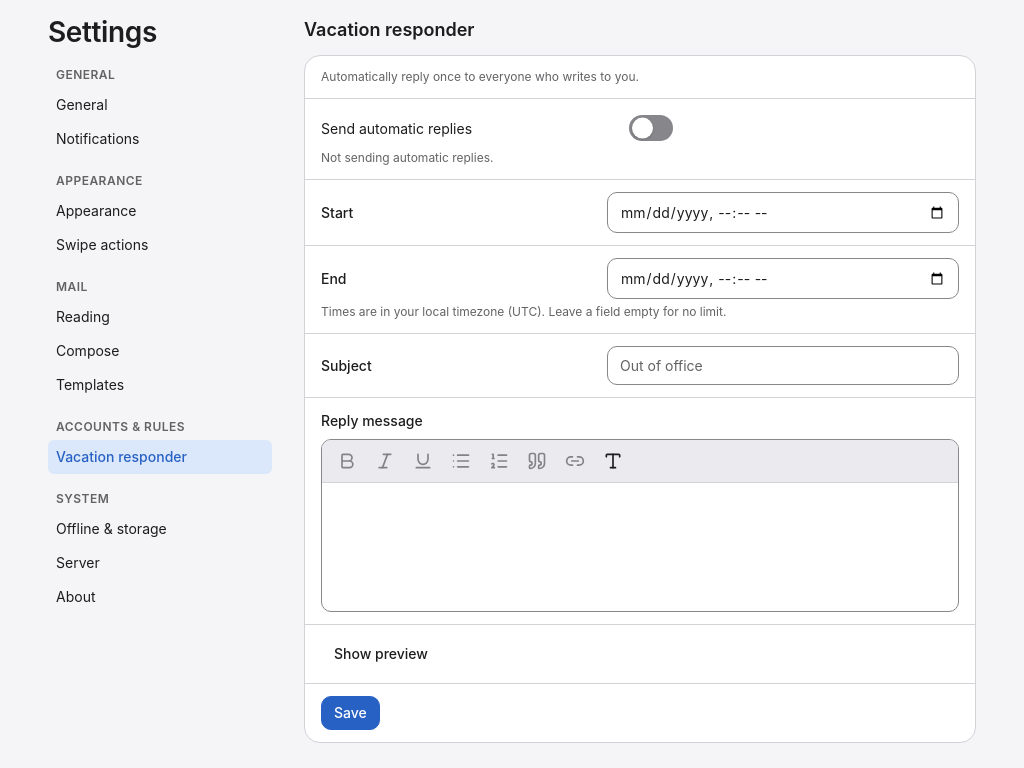
it: leaving a settings section with unsaved input › keeps the draft when the reader says so
What coordinates should you click on to do the following:
click the link "Vacation responder"
I would click on:
 (160, 457)
Its box is [48,440,272,474].
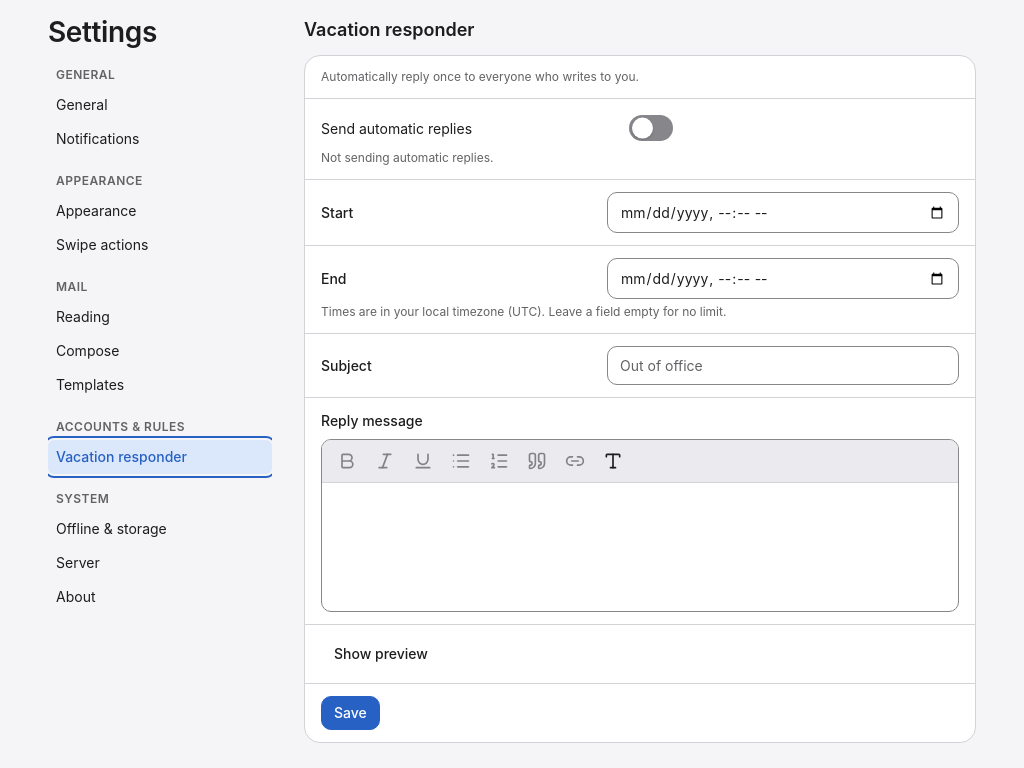
What coordinates should you click on to do the following:
click the switch named "Send automatic replies"
I would click on:
 (651, 128)
Its box is [629,111,673,145].
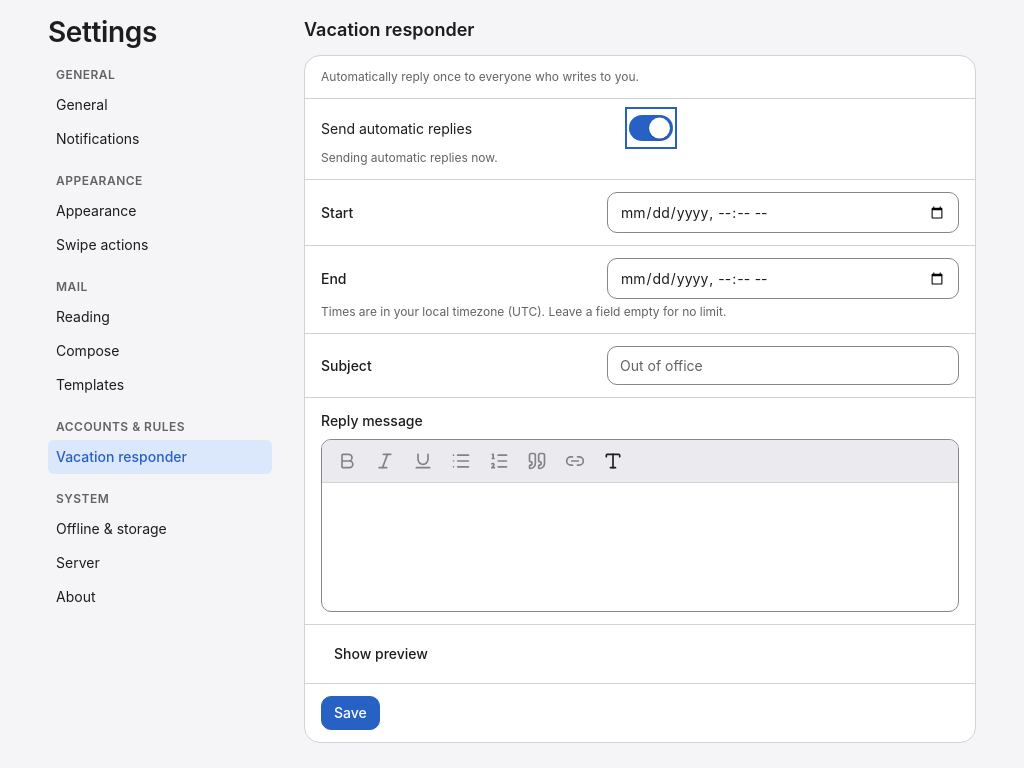
What coordinates should you click on to do the following:
click the link "General"
I would click on:
 (82, 105)
Its box is [56,96,108,113].
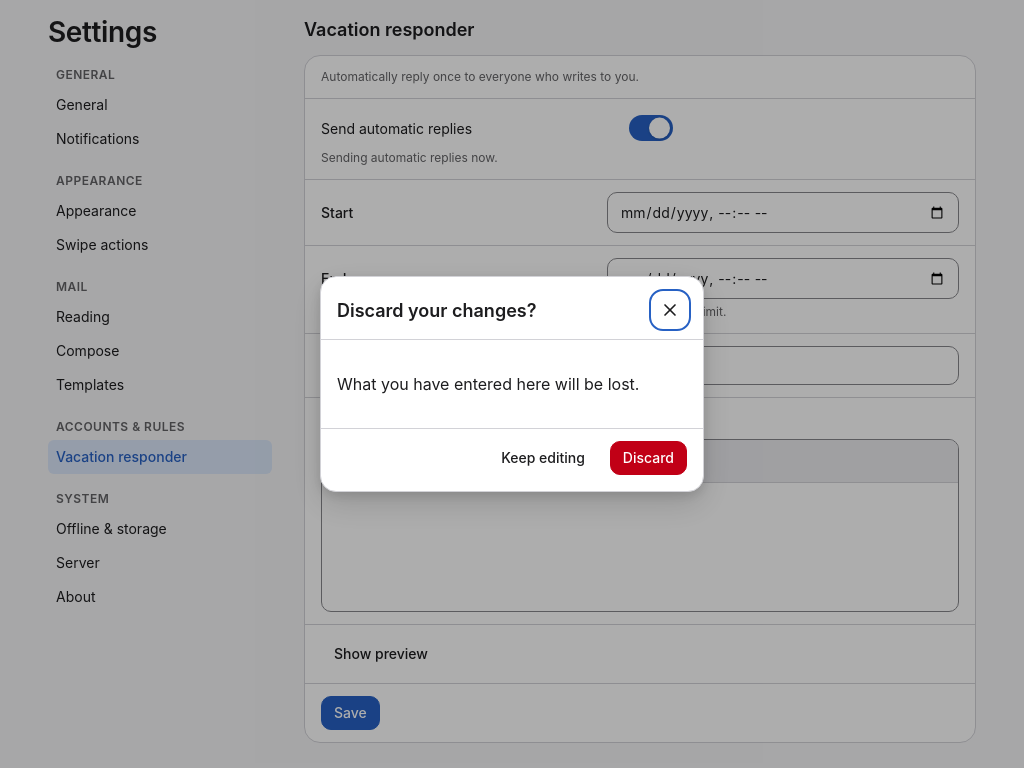
What coordinates should you click on to do the following:
click the button "Keep editing"
I would click on:
 (543, 458)
Its box is [488,441,598,475].
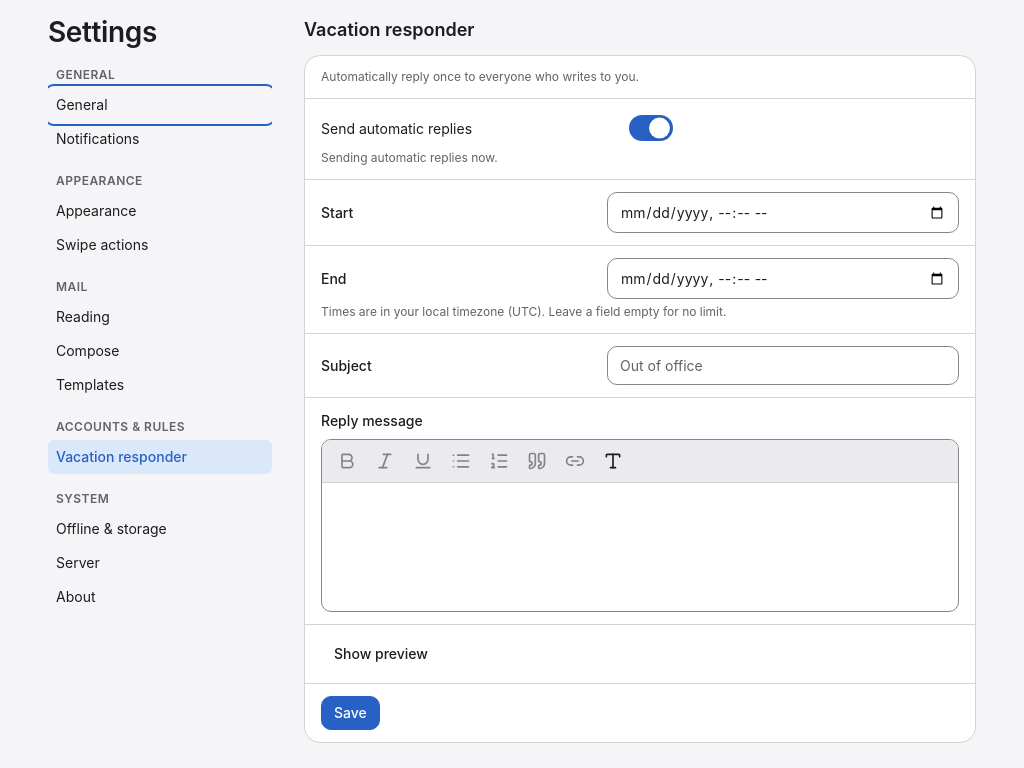
Check: the switch named "Send automatic replies" is checked, box [629,111,673,145]
Check: the heading "Discard your changes?" is gone
